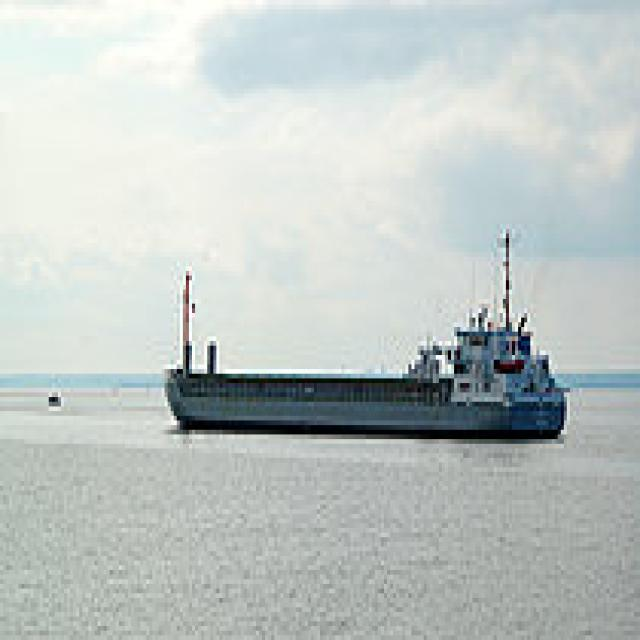Cargo: (158, 224, 567, 439)
